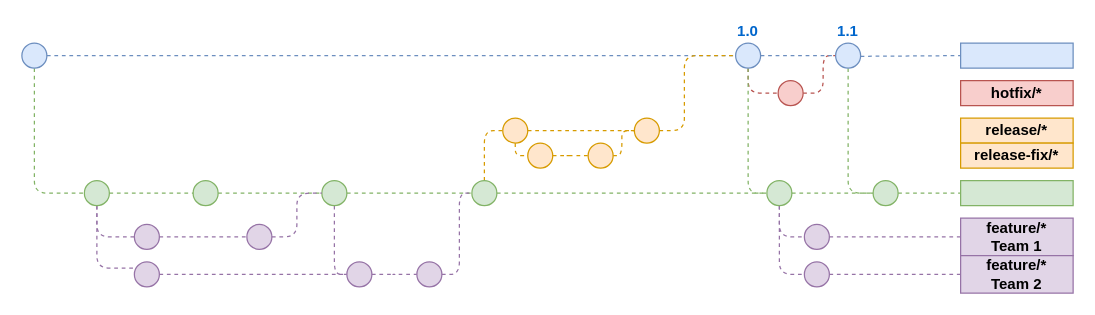
Some shapes in this 1095 by 315 pixel diagram are drawn without their labels. The centre of each missing label's shape, as x and y in pixels:
develop: (1016,192)
main: (1016,55)
